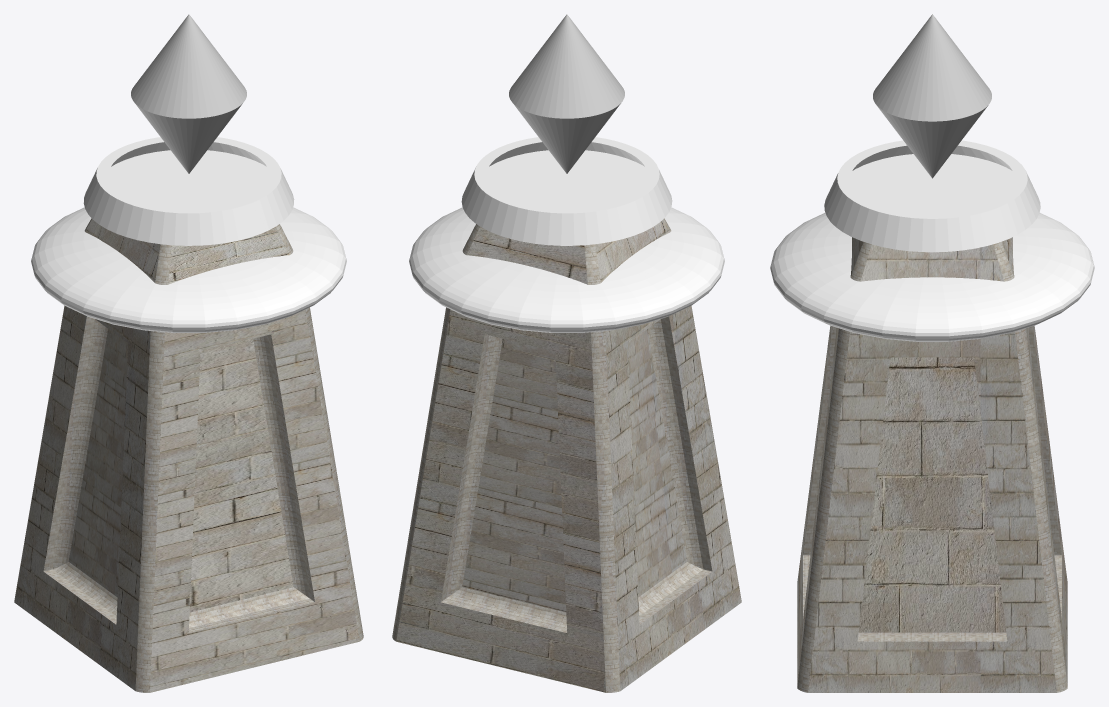
Rendered from tower.fbx.
The picture shows the model from 3 angles, left to right: view 1: azimuth 30°, elevation 25°; view 2: azimuth 150°, elevation 25°; view 3: azimuth 270°, elevation 25°; orthographic projection. The views are drawn at different scales.
Visible parts, largest first — view 1: UModeler_Object, UModeler_Object_1, UModeler_Object_2, UModeler_Object__1_; view 2: UModeler_Object, UModeler_Object_1, UModeler_Object_2, UModeler_Object__1_; view 3: UModeler_Object, UModeler_Object_1, UModeler_Object_2, UModeler_Object__1_.
Part boxes in pixels (x1,y1,x2,y2): UModeler_Object: (14,218,363,692); UModeler_Object_1: (31,207,346,332); UModeler_Object_2: (83,137,294,245); UModeler_Object__1_: (131,14,246,173); UModeler_Object: (392,218,741,692); UModeler_Object_1: (409,207,724,332); UModeler_Object_2: (461,137,672,245); UModeler_Object__1_: (509,14,624,173); UModeler_Object: (797,237,1067,692); UModeler_Object_1: (770,213,1094,341); UModeler_Object_2: (824,140,1040,252); UModeler_Object__1_: (873,14,991,178).
Size of the model in its own units: 358 by 761 by 360.
